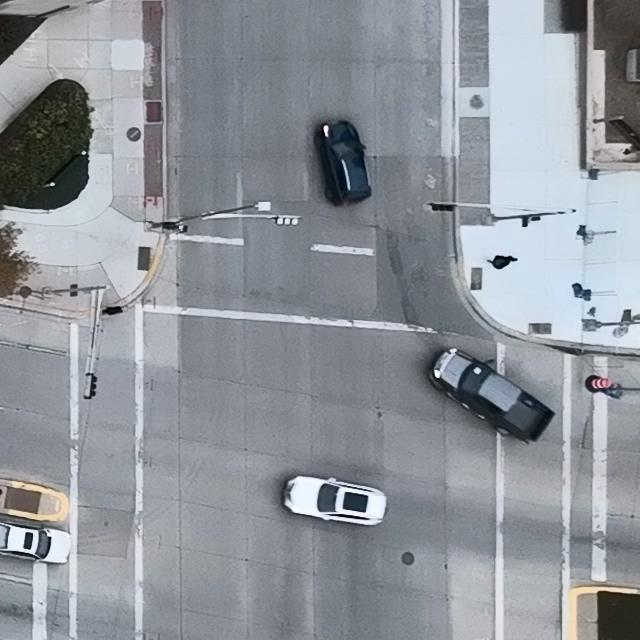car: (427, 348, 556, 444), (281, 475, 386, 527), (315, 119, 372, 205), (0, 520, 73, 565)
